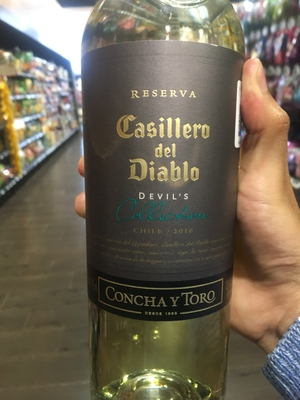casillero del diablo devils collection verde: (77, 18, 257, 398)
